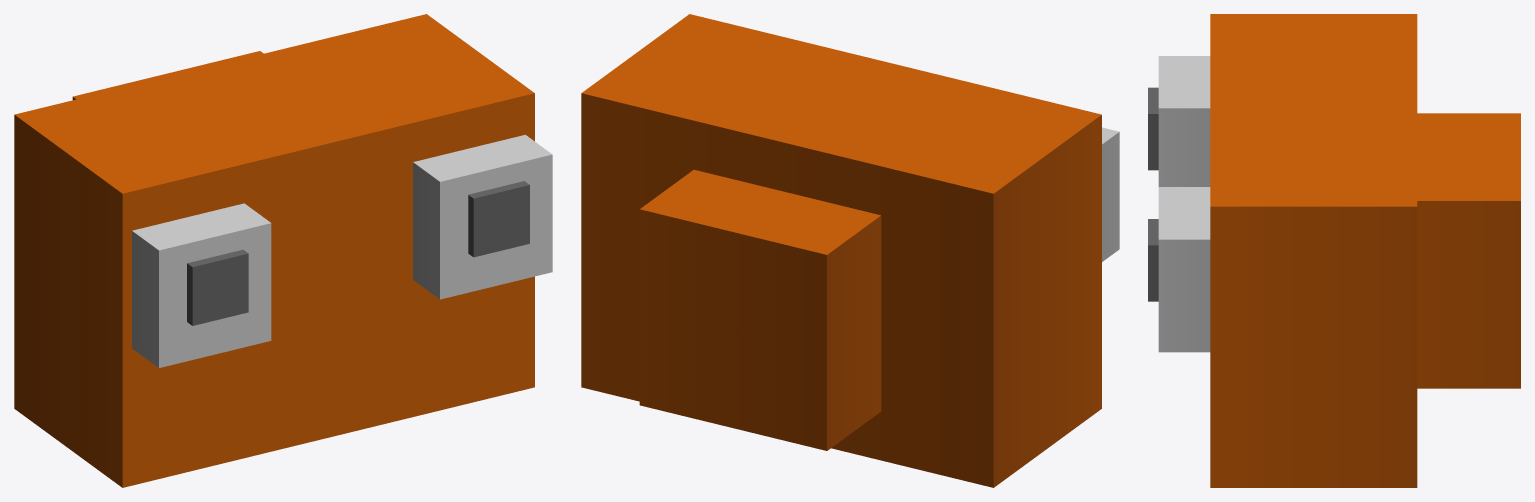
File: googelon-head.glb
3 renders of one model, left to right at view 1: azimuth 30°, elevation 25°; view 2: azimuth 150°, elevation 25°; view 3: azimuth 270°, elevation 25°, orthographic. The views are drawn at different scales.
Visible parts, largest first — view 1: mesh0; view 2: mesh0; view 3: mesh0.
Part boxes in pixels (x1,y1,x2,y2): mesh0: [14, 14, 552, 487]; mesh0: [581, 14, 1119, 487]; mesh0: [1148, 14, 1520, 487].
Bounding box in the file's own units: 0.44 × 0.3 × 0.36.
